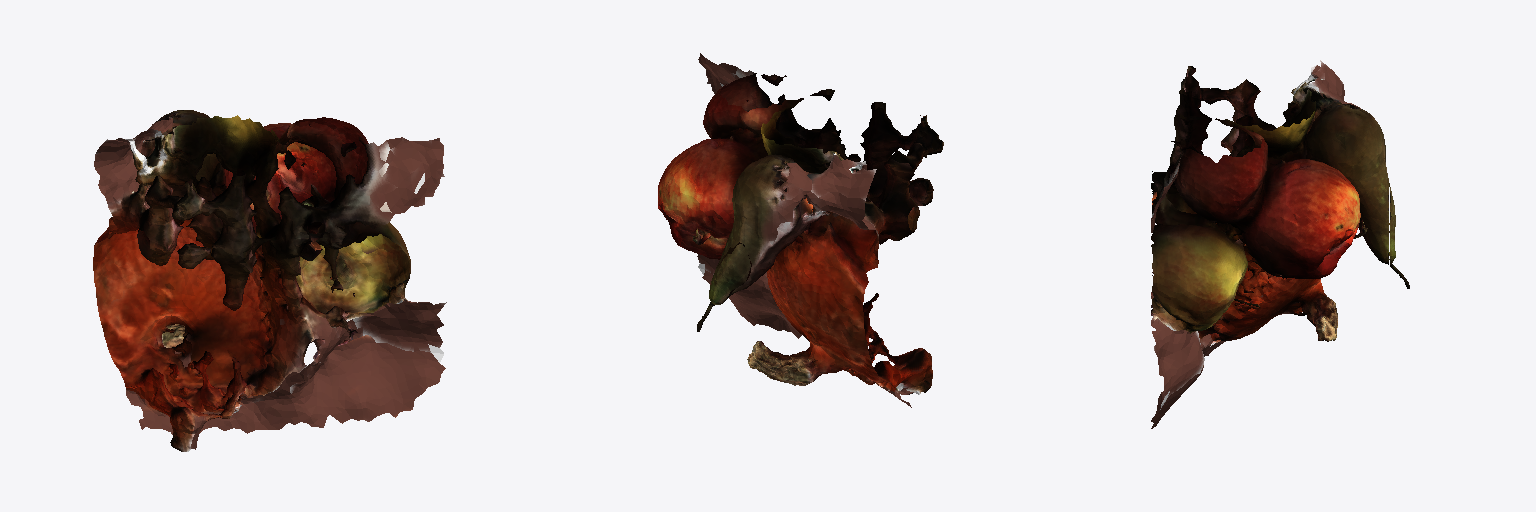
3 views of the same model, side by side, from view 1: azimuth 30°, elevation 25°; view 2: azimuth 150°, elevation 25°; view 3: azimuth 270°, elevation 25° (orthographic).
Visible parts, largest first — view 1: mesh; view 2: mesh; view 3: mesh.
Boxes of the visible parts, <box> form: mesh: <box>93,110,446,451</box>; mesh: <box>658,53,943,407</box>; mesh: <box>1151,60,1409,428</box>.
Bounding box in the file's own units: 0.9997 × 0.9989 × 0.8677.
Materials: 1 (1 with a texture image).